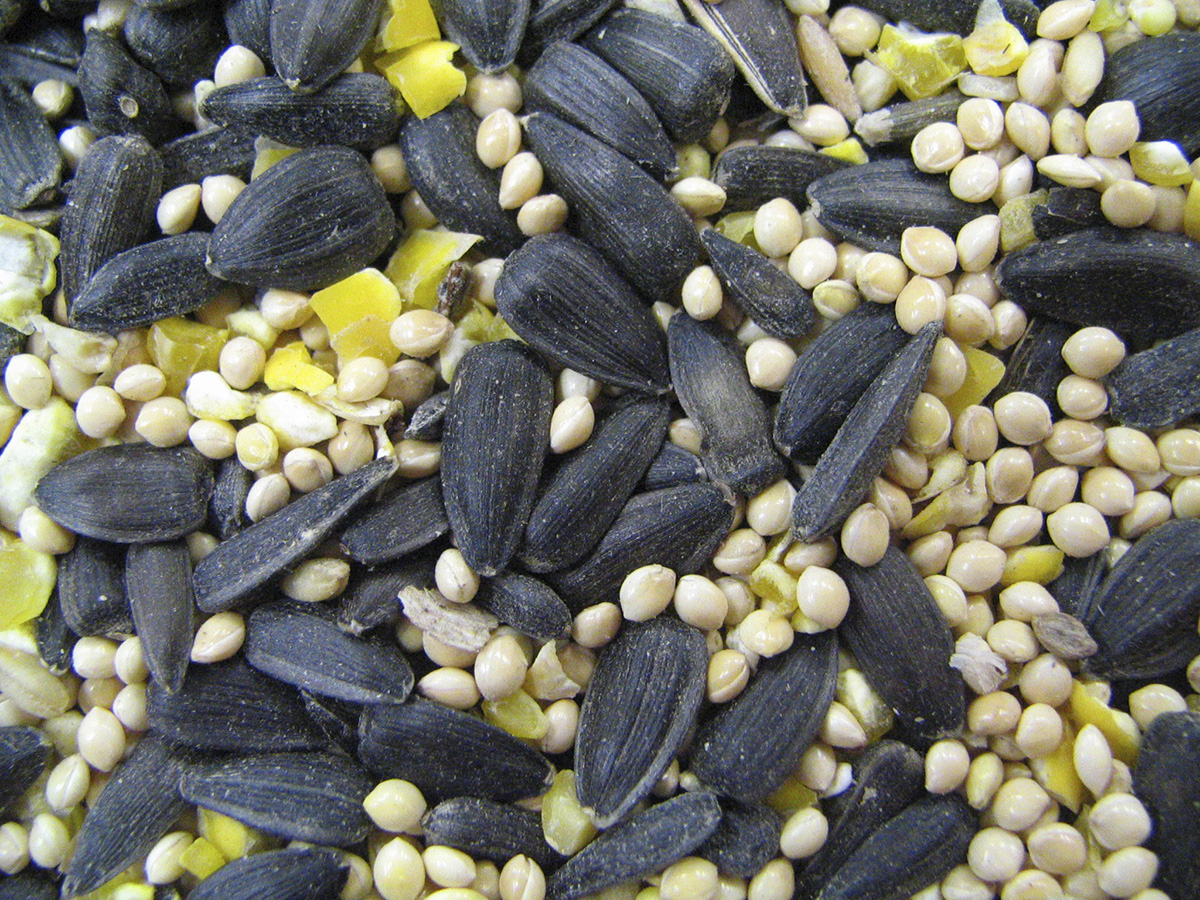seed: (5, 8, 1193, 900)
